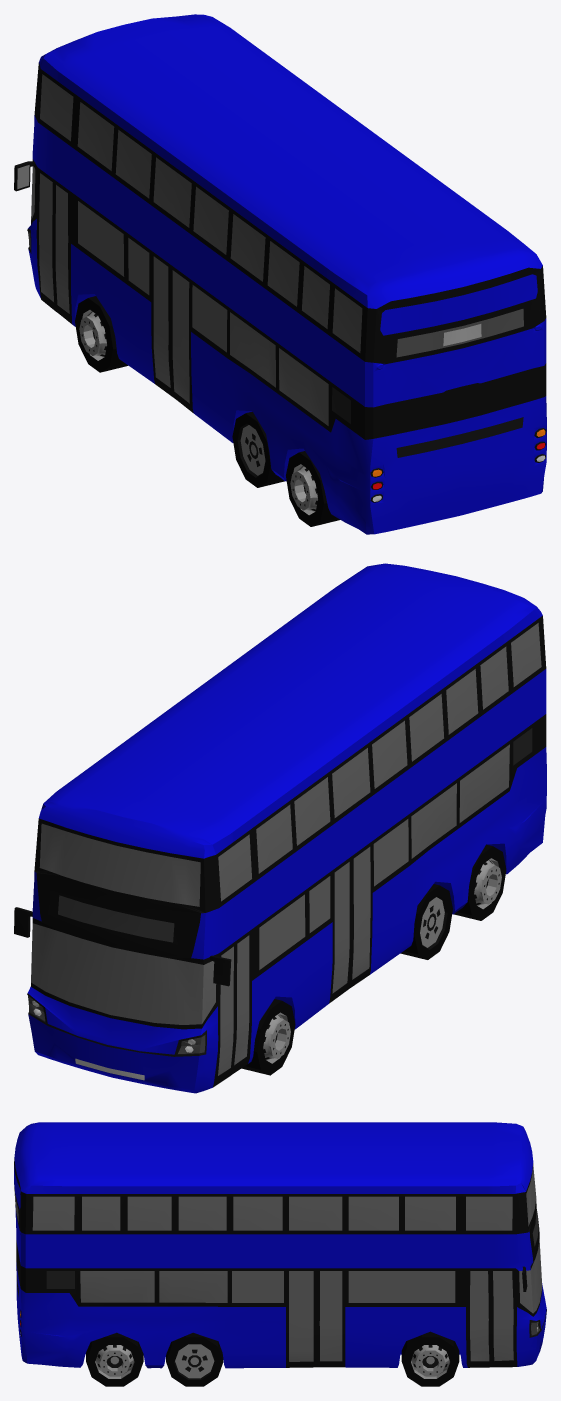
Rendered from Double Dacker .fbx.
3 views of the same model, one above another, from view 1: azimuth 30°, elevation 25°; view 2: azimuth 150°, elevation 25°; view 3: azimuth 270°, elevation 25° (orthographic). The views are drawn at different scales.
Visible parts, largest first — view 1: double_decker Body, double_deckerbus; view 2: double_decker Body, double_deckerbus; view 3: double_decker Body, double_deckerbus.
Boxes of the visible parts, x1,y1,x2,y2 form: double_decker Body: [28, 14, 546, 534]; double_deckerbus: [14, 63, 546, 526]; double_decker Body: [28, 563, 546, 1093]; double_deckerbus: [14, 615, 546, 1087]; double_decker Body: [14, 1122, 546, 1368]; double_deckerbus: [14, 1158, 546, 1386].
Size of the model in its own units: 3.09 by 3.81 by 8.84.
Materials: 2 (1 with a texture image).
